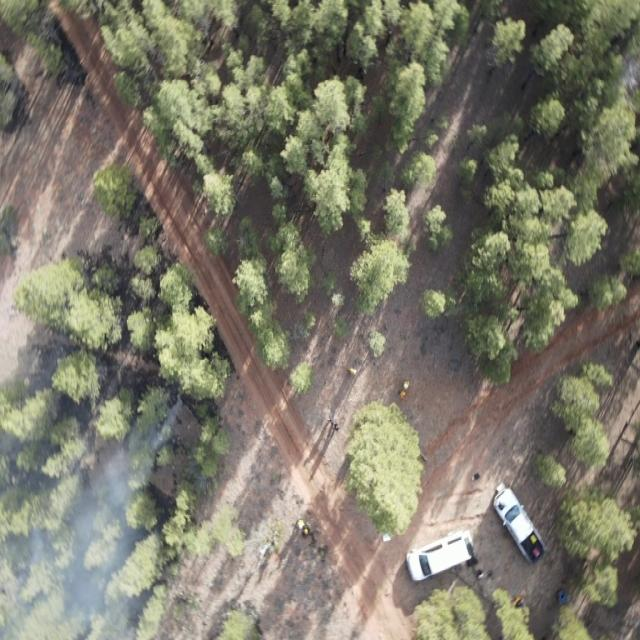smoke: (0, 379, 192, 640)
